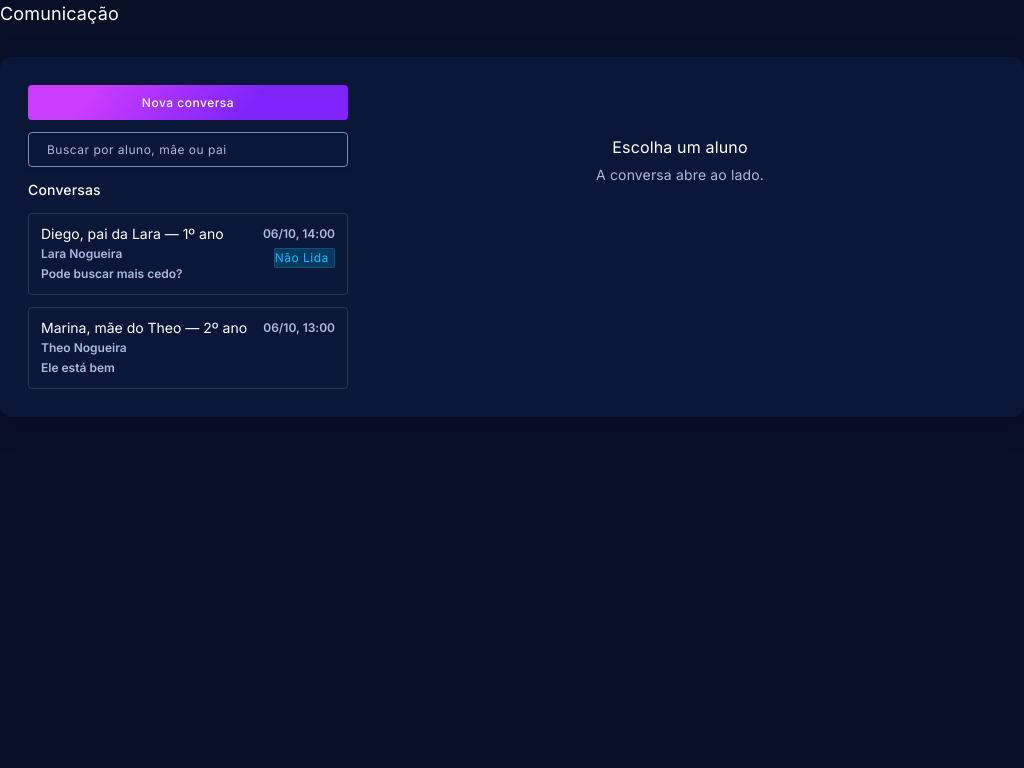
it: StaffCommunication › reads each inbox row as the guardian line and marks an unread bell
Expected: the text "Diego, pai da Lara — 1º ano" is shown, [41,224,224,244]
Expected: the text "Marina, mãe do Theo — 2º ano" is shown, [41,318,247,338]
Click the button "Nova conversa": coordinates (188, 102) [28,85,348,120]
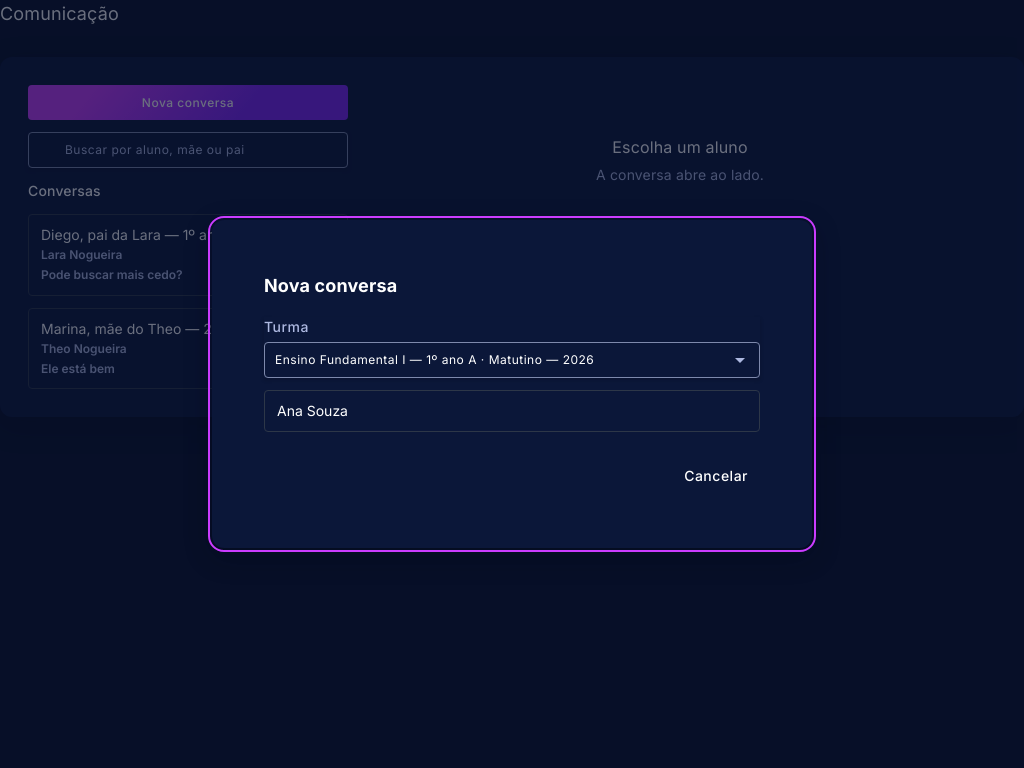
Expected: the button "Ana Souza" is shown, [264,390,760,432]
Click the button "Cancelar": coordinates (716, 476) [672,456,760,496]
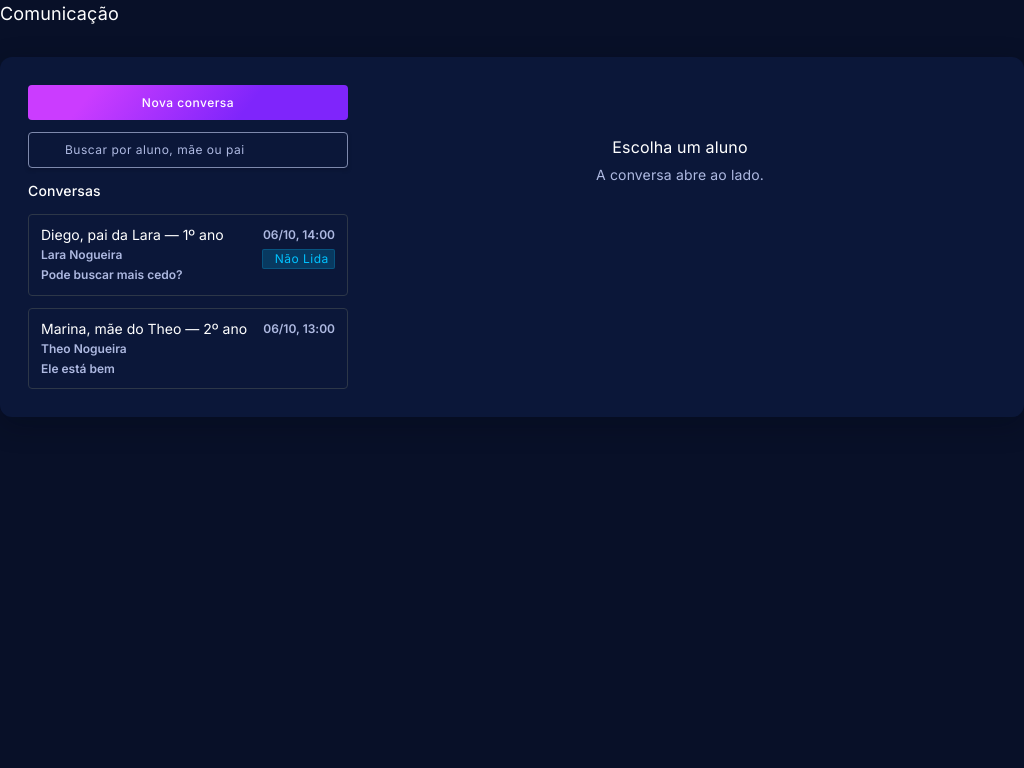
Click the button "Diego, pai da Lara — 1º ano": coordinates (132, 234) [28,214,348,296]
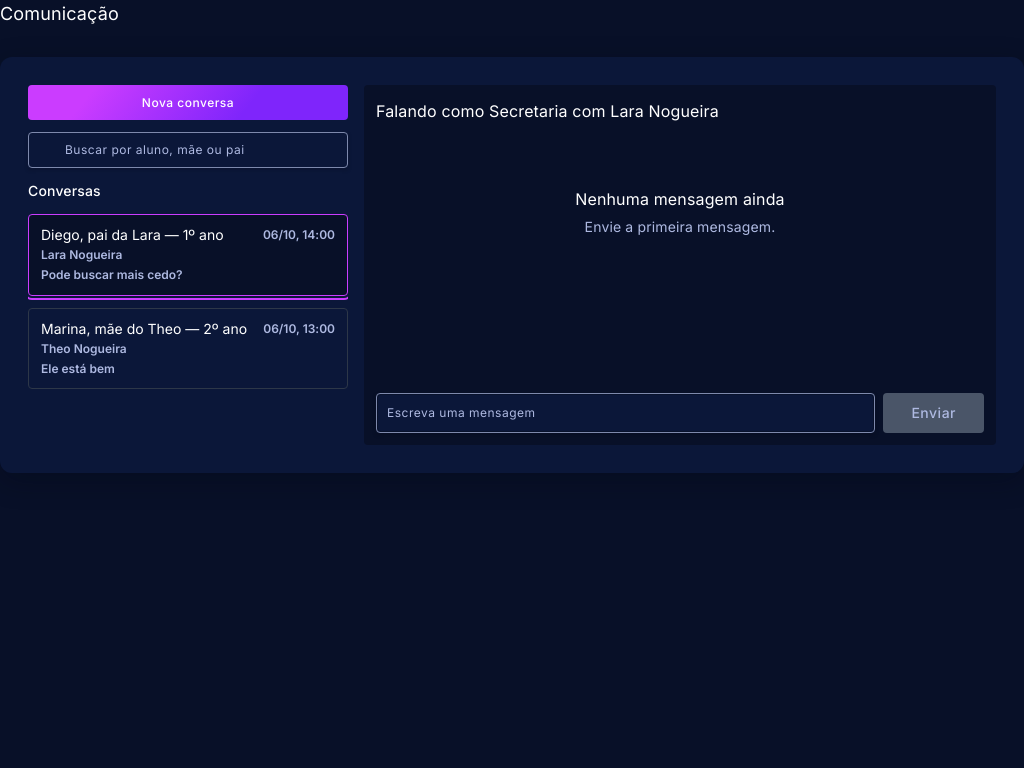
Expected: the heading "Falando como Secretaria com Lara Nogueira" is shown, [376,101,719,121]
Expected: the text "Não lida" is gone
